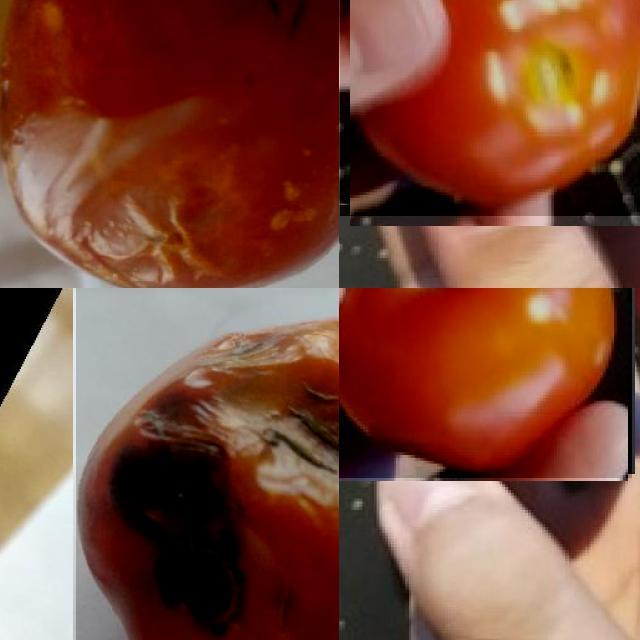Fresh Tomato: (339, 0, 640, 215), (339, 288, 631, 477)
Rotten Tomato: (0, 0, 339, 288), (76, 288, 339, 640)
